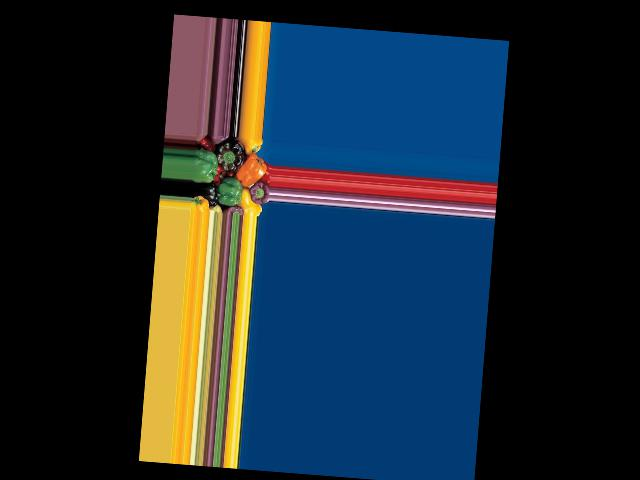bell_pepper: (191, 147, 216, 182)
